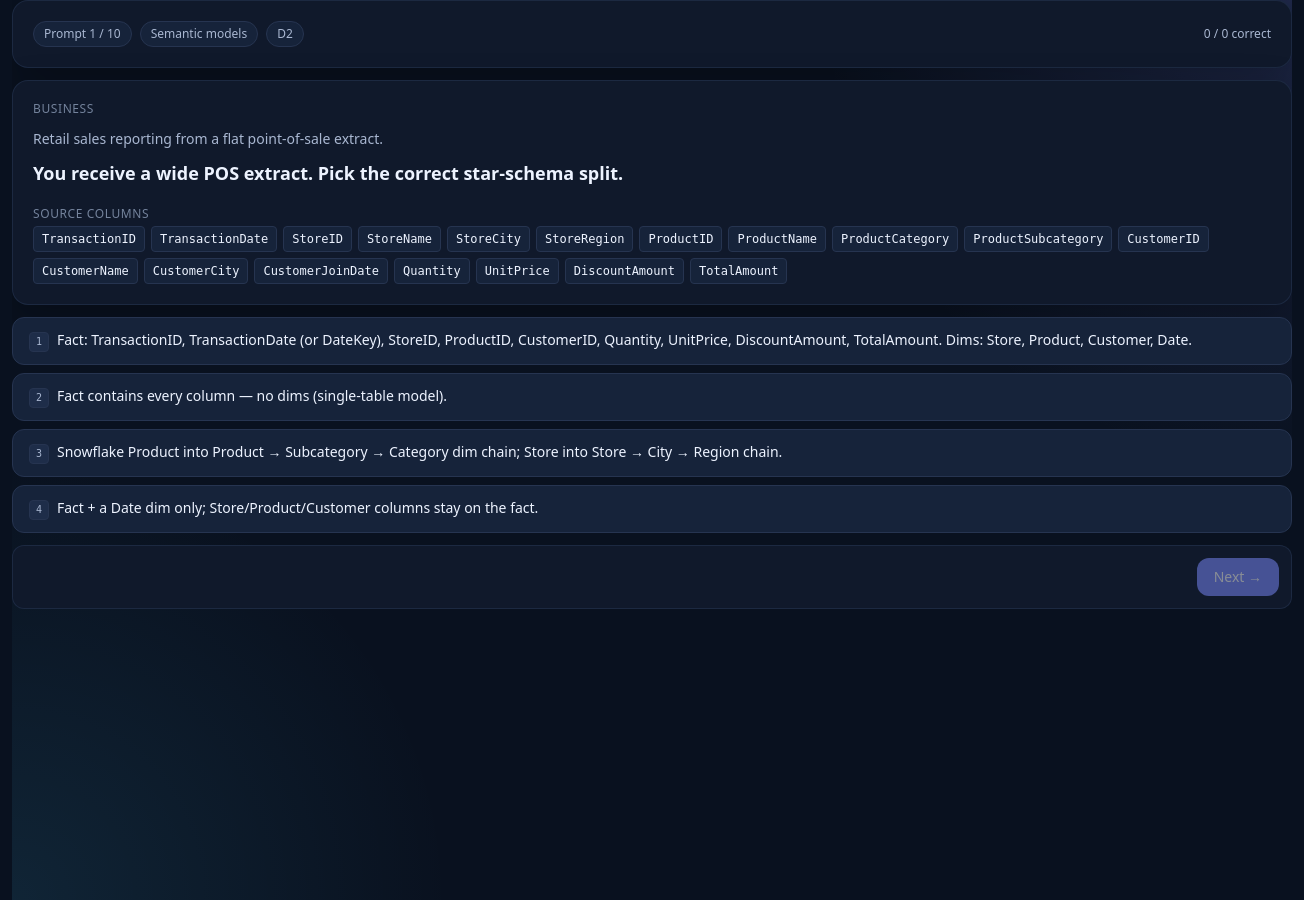
Test: StarSchemaLabView › 3. clicking the correct option reveals Correct + explanation
The image size is (1304, 900).
Click the 1st radio button at (652, 341), box [12,317,1292,365]
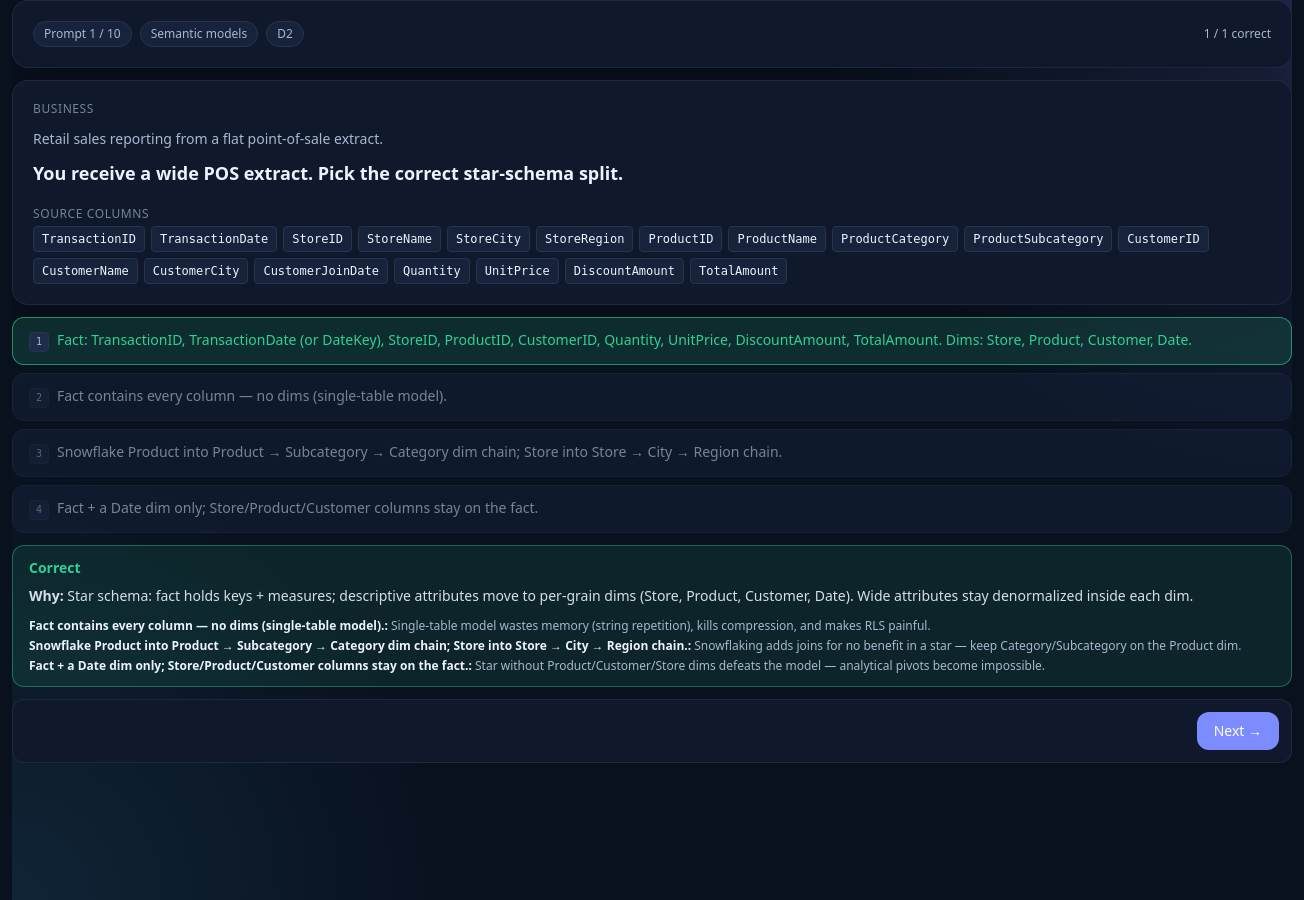
Now the text "Correct" is shown, box [29,558,81,577]
Now the text "Why:" is shown, box [29,586,64,605]
